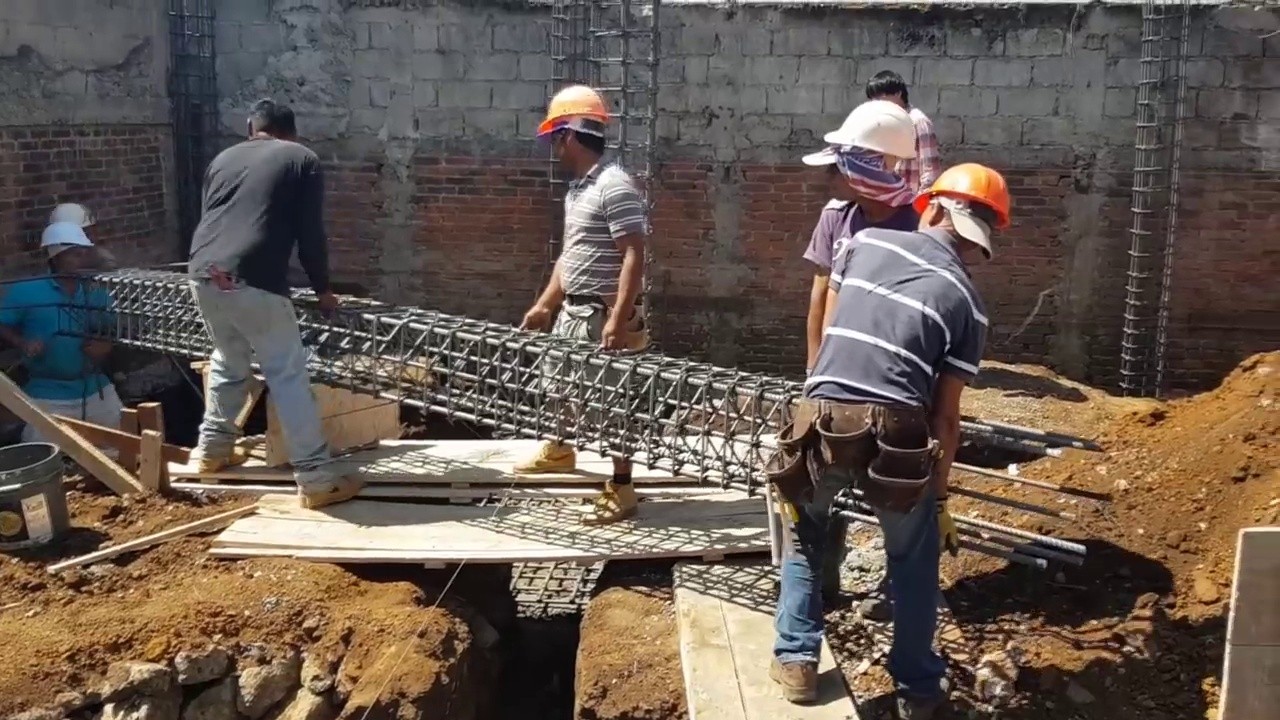helmet: (917, 164, 1011, 237), (822, 102, 915, 167), (535, 87, 604, 134), (37, 221, 92, 247), (50, 203, 97, 231)
helmet-off: (241, 99, 293, 143), (863, 68, 907, 111)
helmet-on: (812, 104, 933, 216), (908, 152, 1007, 262), (535, 82, 612, 185), (37, 223, 93, 295)
person: (771, 135, 1018, 720), (185, 98, 357, 512), (516, 71, 649, 504), (799, 105, 926, 372), (7, 196, 118, 465)
